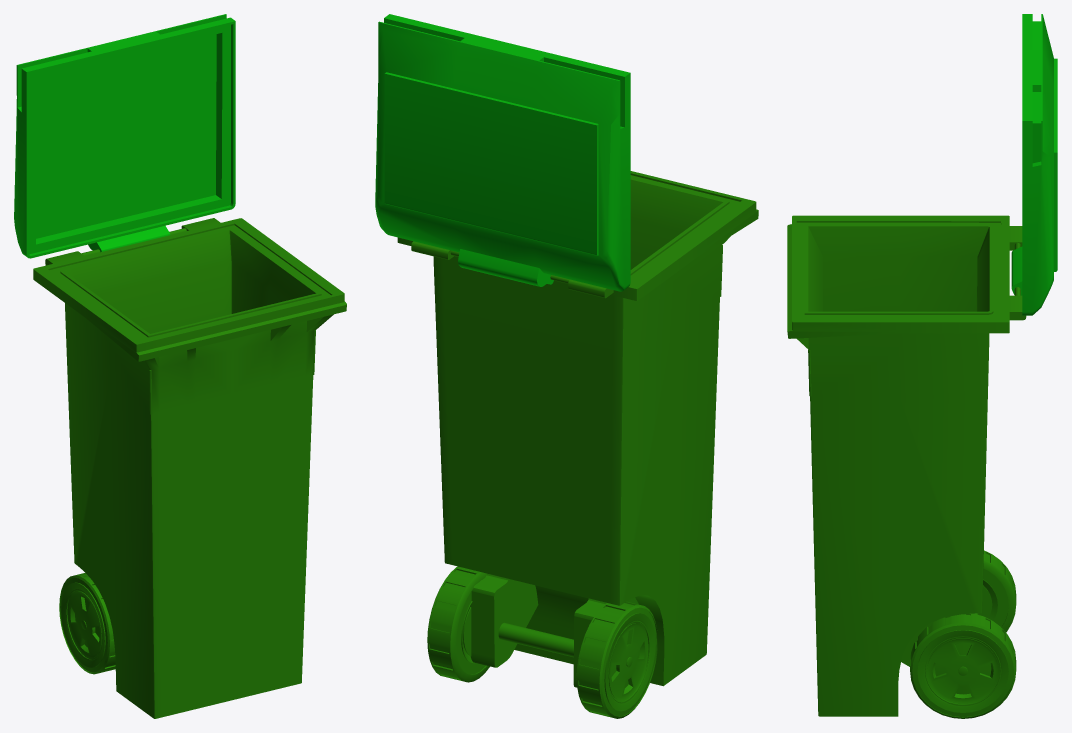
The model's file is bin3.fbx.
3 renders of one model, left to right at view 1: azimuth 30°, elevation 25°; view 2: azimuth 150°, elevation 25°; view 3: azimuth 270°, elevation 25°, orthographic. The views are drawn at different scales.
Visible parts, largest first — view 1: Lid.001; view 2: Lid.001; view 3: Lid.001.
Part boxes in pixels (x1,y1,x2,y2): Lid.001: (14,14,346,718); Lid.001: (375,14,758,718); Lid.001: (787,14,1057,718).
Size of the model in its own units: 730 by 1953 by 780.
